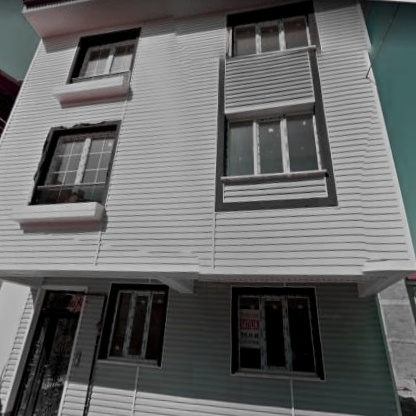door: (3, 286, 90, 416)
